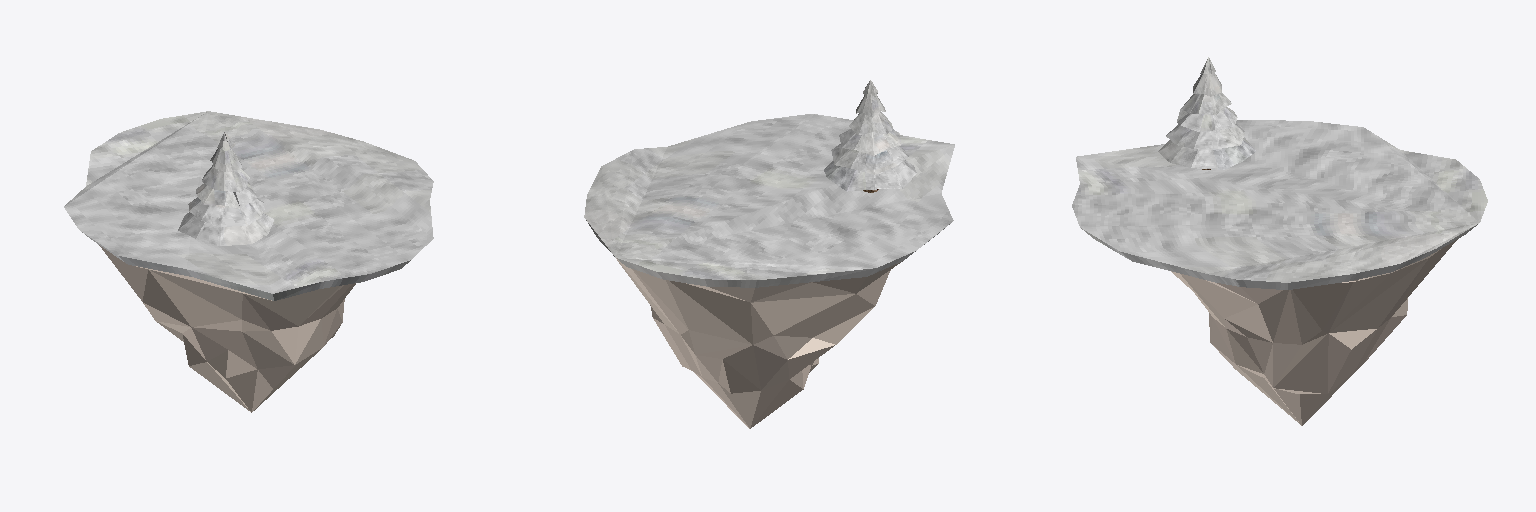
The picture shows the model from 3 angles: view 1: azimuth 30°, elevation 25°; view 2: azimuth 150°, elevation 25°; view 3: azimuth 270°, elevation 25°; orthographic projection.
Visible parts, largest first — view 1: Island_Grass_Cylinder.001, Island_Cylinder.001, Tree_Mid_Plant_Cylinder.001; view 2: Island_Grass_Cylinder.001, Island_Cylinder.001, Tree_Mid_Plant_Cylinder.001; view 3: Island_Grass_Cylinder.001, Island_Cylinder.001, Tree_Mid_Plant_Cylinder.001.
Boxes of the visible parts, box(x1,y1,x2,y2) form: Island_Grass_Cylinder.001: box(64, 111, 433, 300); Island_Cylinder.001: box(99, 245, 355, 412); Tree_Mid_Plant_Cylinder.001: box(178, 132, 273, 245); Island_Grass_Cylinder.001: box(584, 114, 954, 287); Island_Cylinder.001: box(616, 258, 902, 428); Tree_Mid_Plant_Cylinder.001: box(824, 80, 916, 191); Island_Grass_Cylinder.001: box(1072, 120, 1487, 289); Island_Cylinder.001: box(1171, 239, 1457, 425); Tree_Mid_Plant_Cylinder.001: box(1158, 57, 1255, 169).
Size of the model in its own units: 5.89 by 5.76 by 6.52.
6 materials, 3 textured.